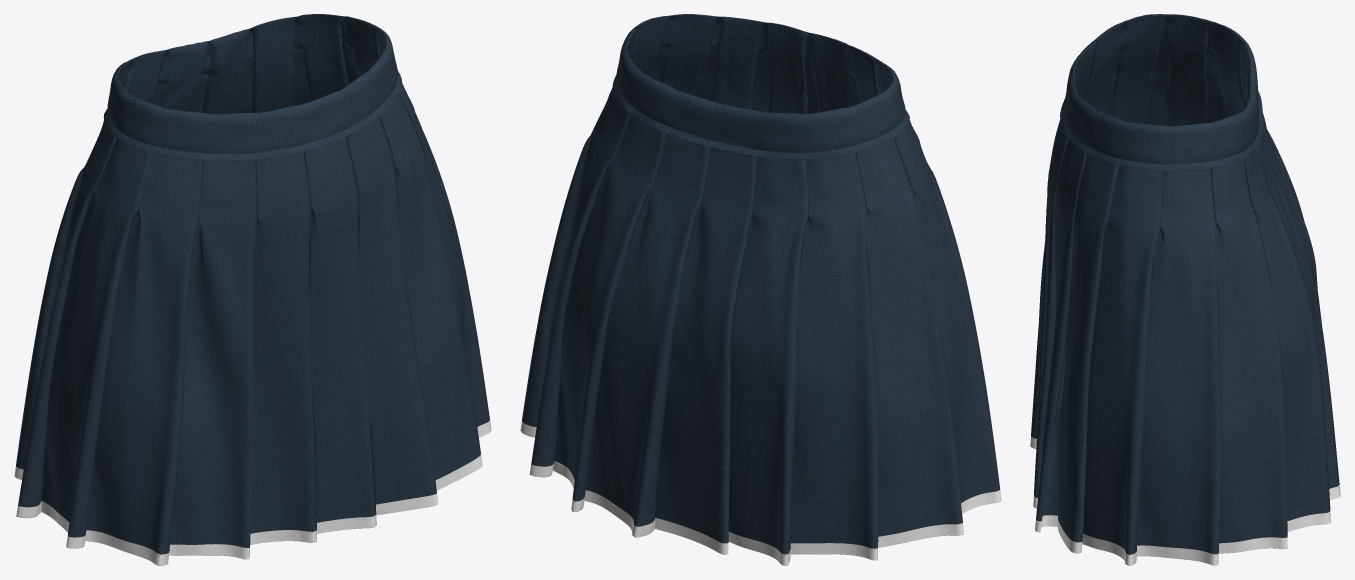
The model's file is skirt.glb.
The picture shows the model from 3 angles, left to right: view 1: azimuth 30°, elevation 25°; view 2: azimuth 150°, elevation 25°; view 3: azimuth 270°, elevation 25°; orthographic projection. The views are drawn at different scales.
Visible parts, largest first — view 1: Pleated Skirt; view 2: Pleated Skirt; view 3: Pleated Skirt.
Part boxes in pixels (box(x1,y1,x2,y2)): Pleated Skirt: box(14, 14, 491, 565); Pleated Skirt: box(520, 14, 1001, 565); Pleated Skirt: box(1030, 14, 1340, 565).
Bounding box in the file's own units: 425 × 401 × 270.
Materials: 3 (2 with a texture image).
